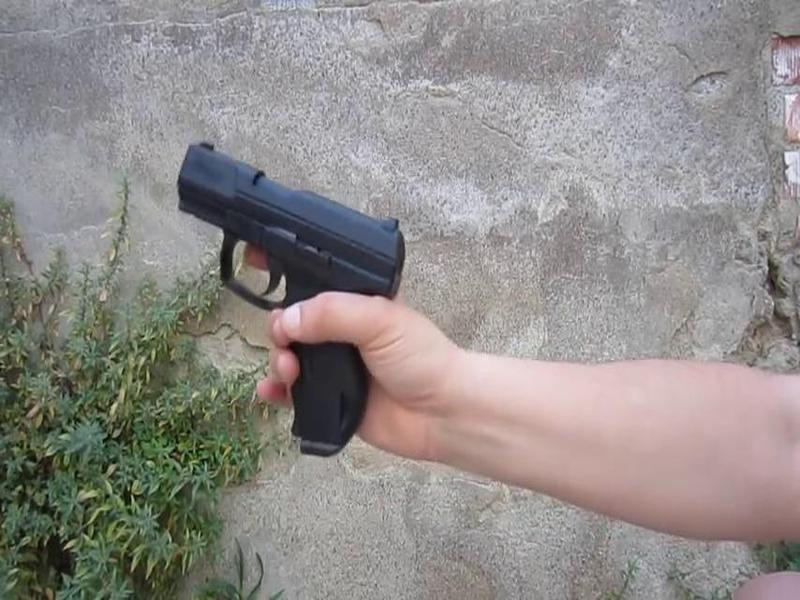Pistola: (137, 133, 409, 474)
